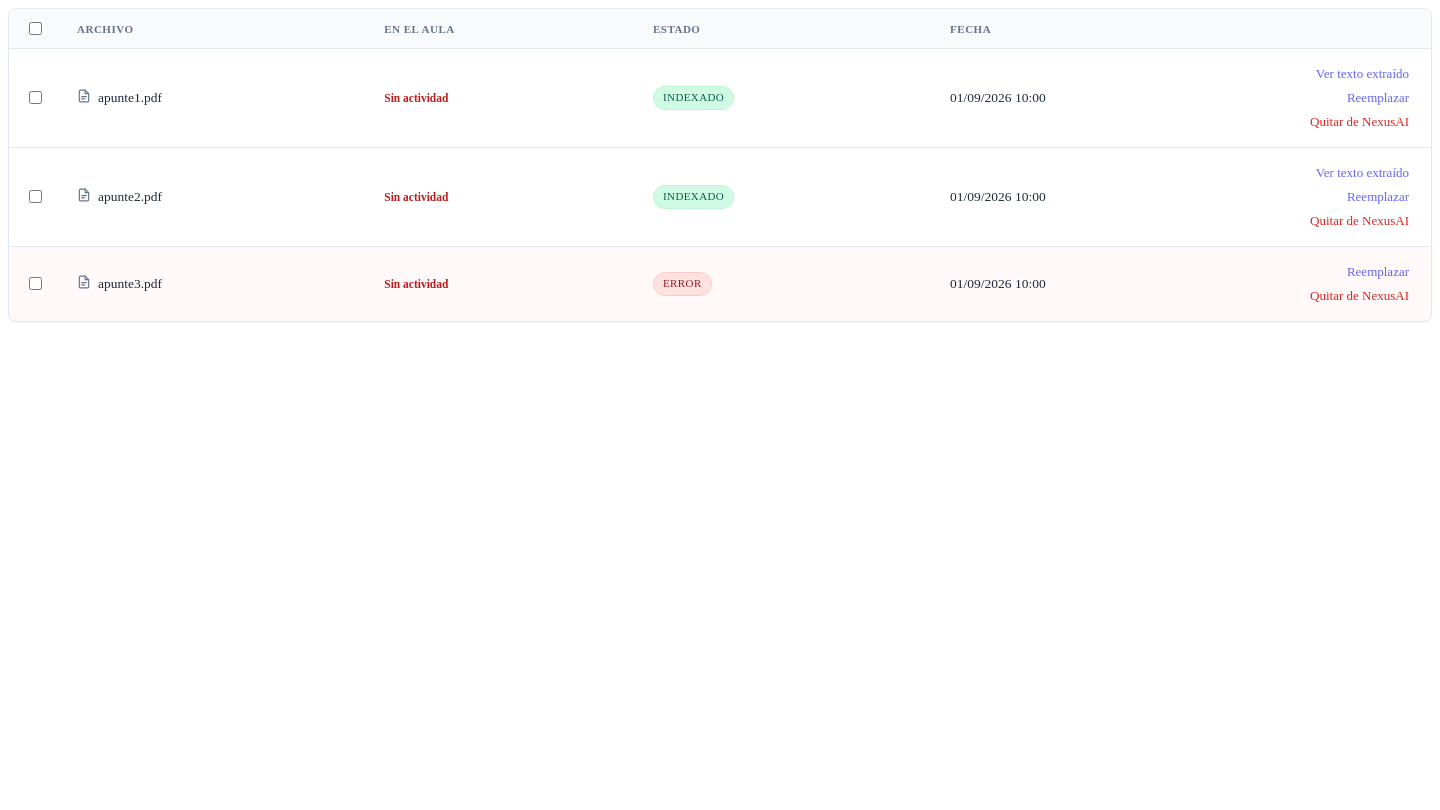
Scenario: DocumentsTable — eliminar en lote › deletes only the selected documents sequentially, after confirmation, and removes them from the table
Click the checkbox named "Seleccionar apunte1.pdf" at [36, 98], box [29,91,42,104]
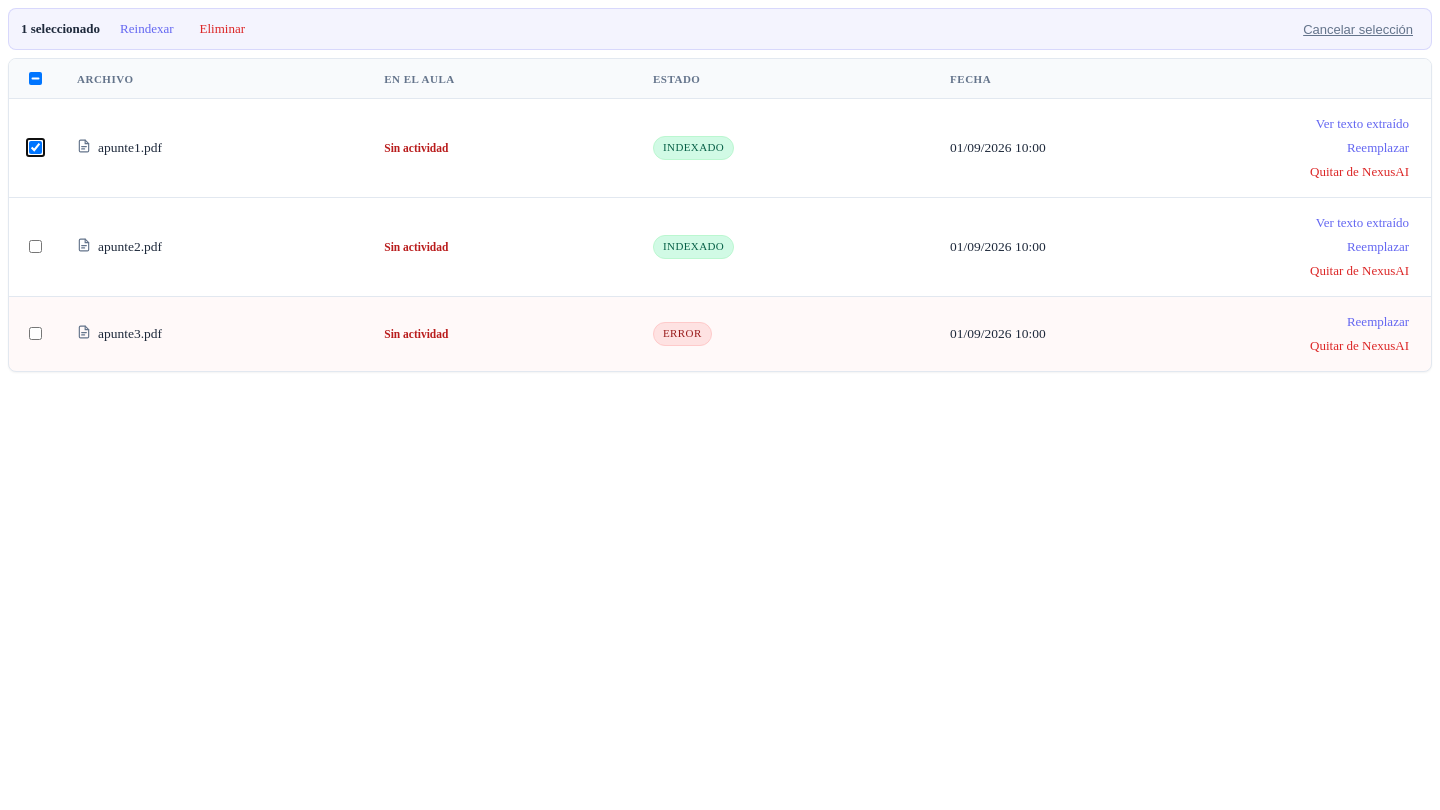
Click the checkbox named "Seleccionar apunte2.pdf" at [36, 246], box [29,240,42,253]
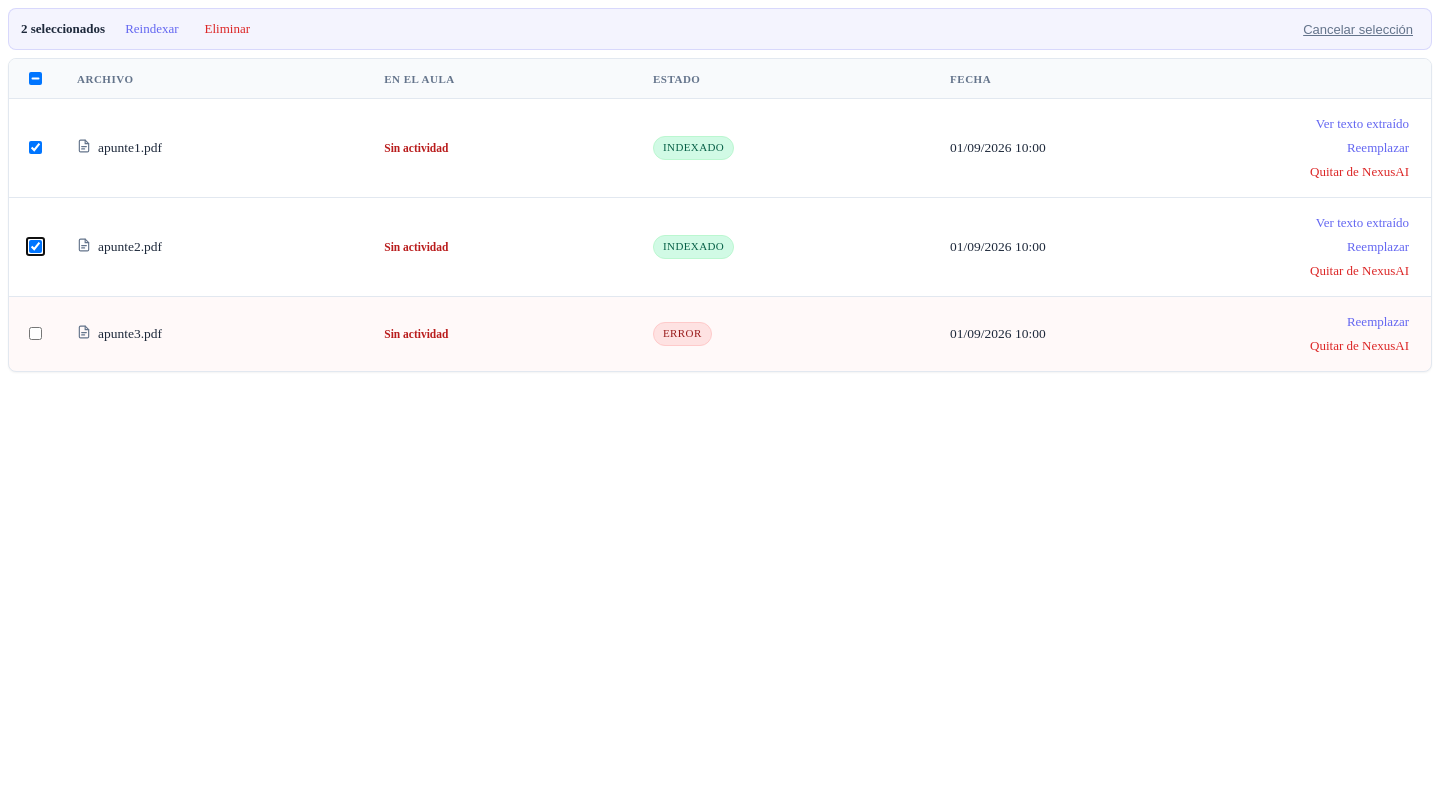
Click the button "Eliminar" at [227, 29], box [199,17,256,41]
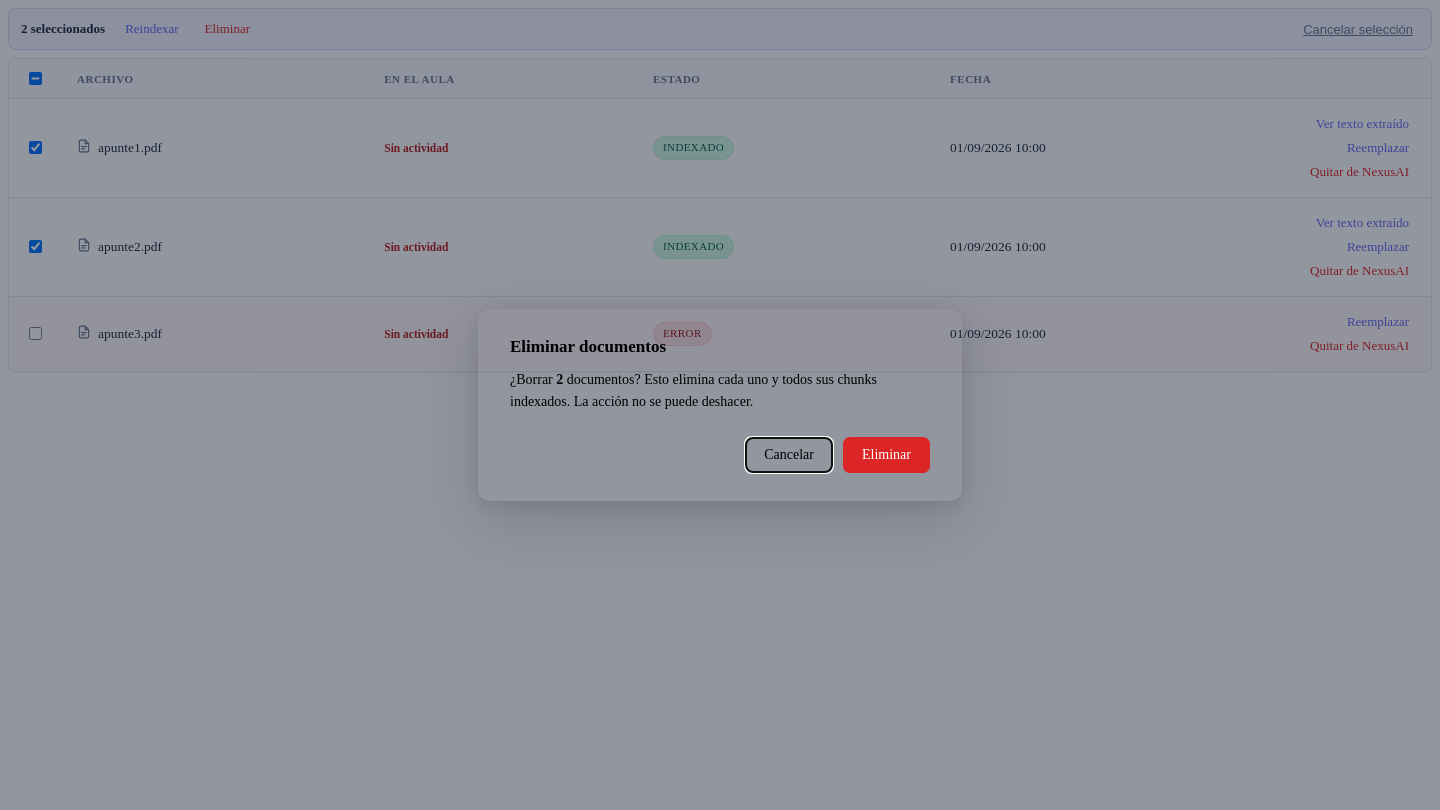
Check: the text "¿Borrar" is shown, box [510,372,556,387]
Click the button "Eliminar" at [886, 455], box [843,437,930,473]
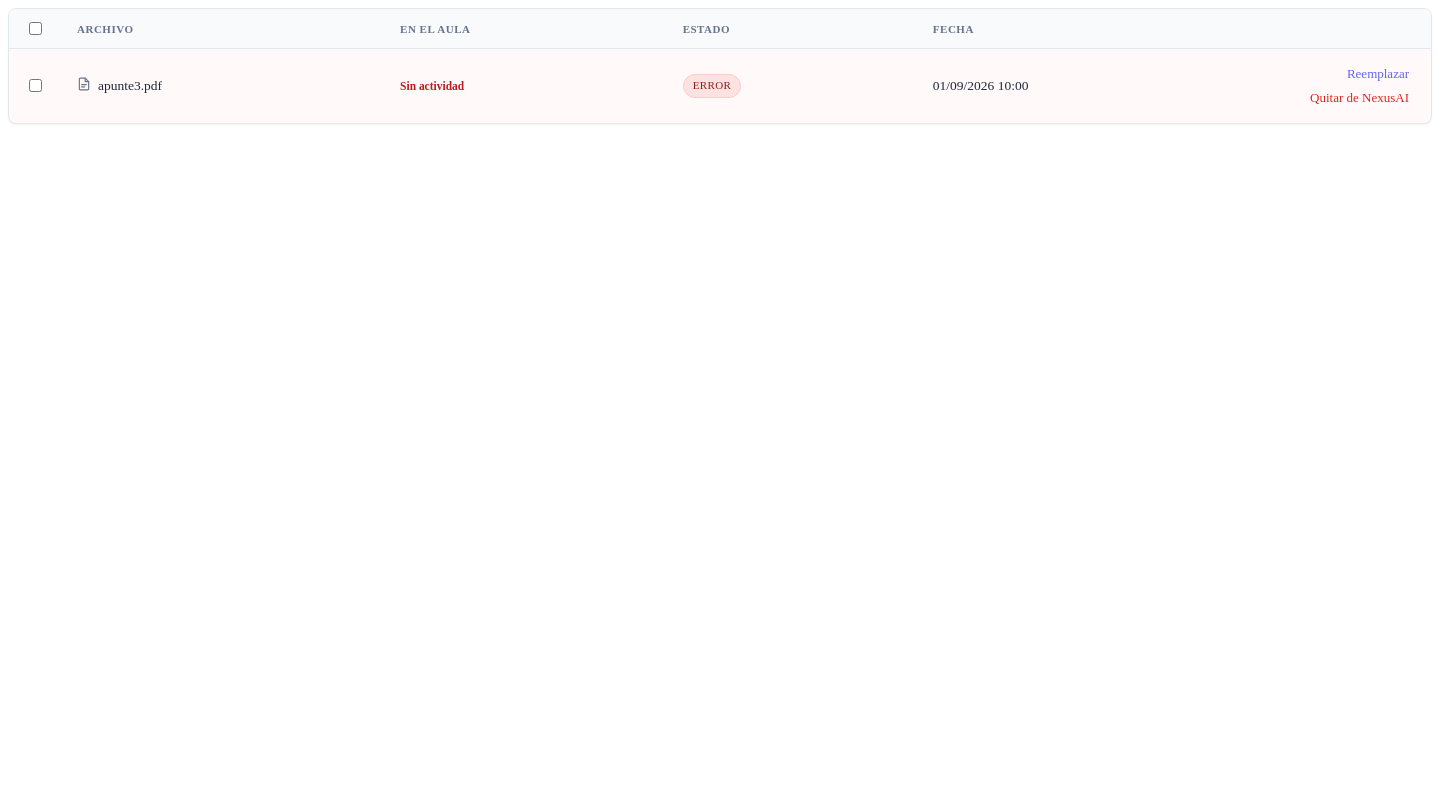
Check: the text "apunte3.pdf" is shown, box [77,77,162,93]
Check: the text "apunte1.pdf" is gone
Check: the text "apunte2.pdf" is gone
